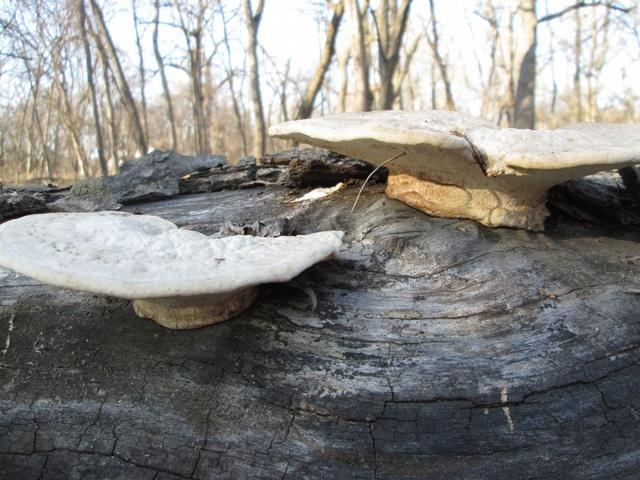poisonous_mushroom: (275, 106, 640, 236), (0, 208, 345, 330)
